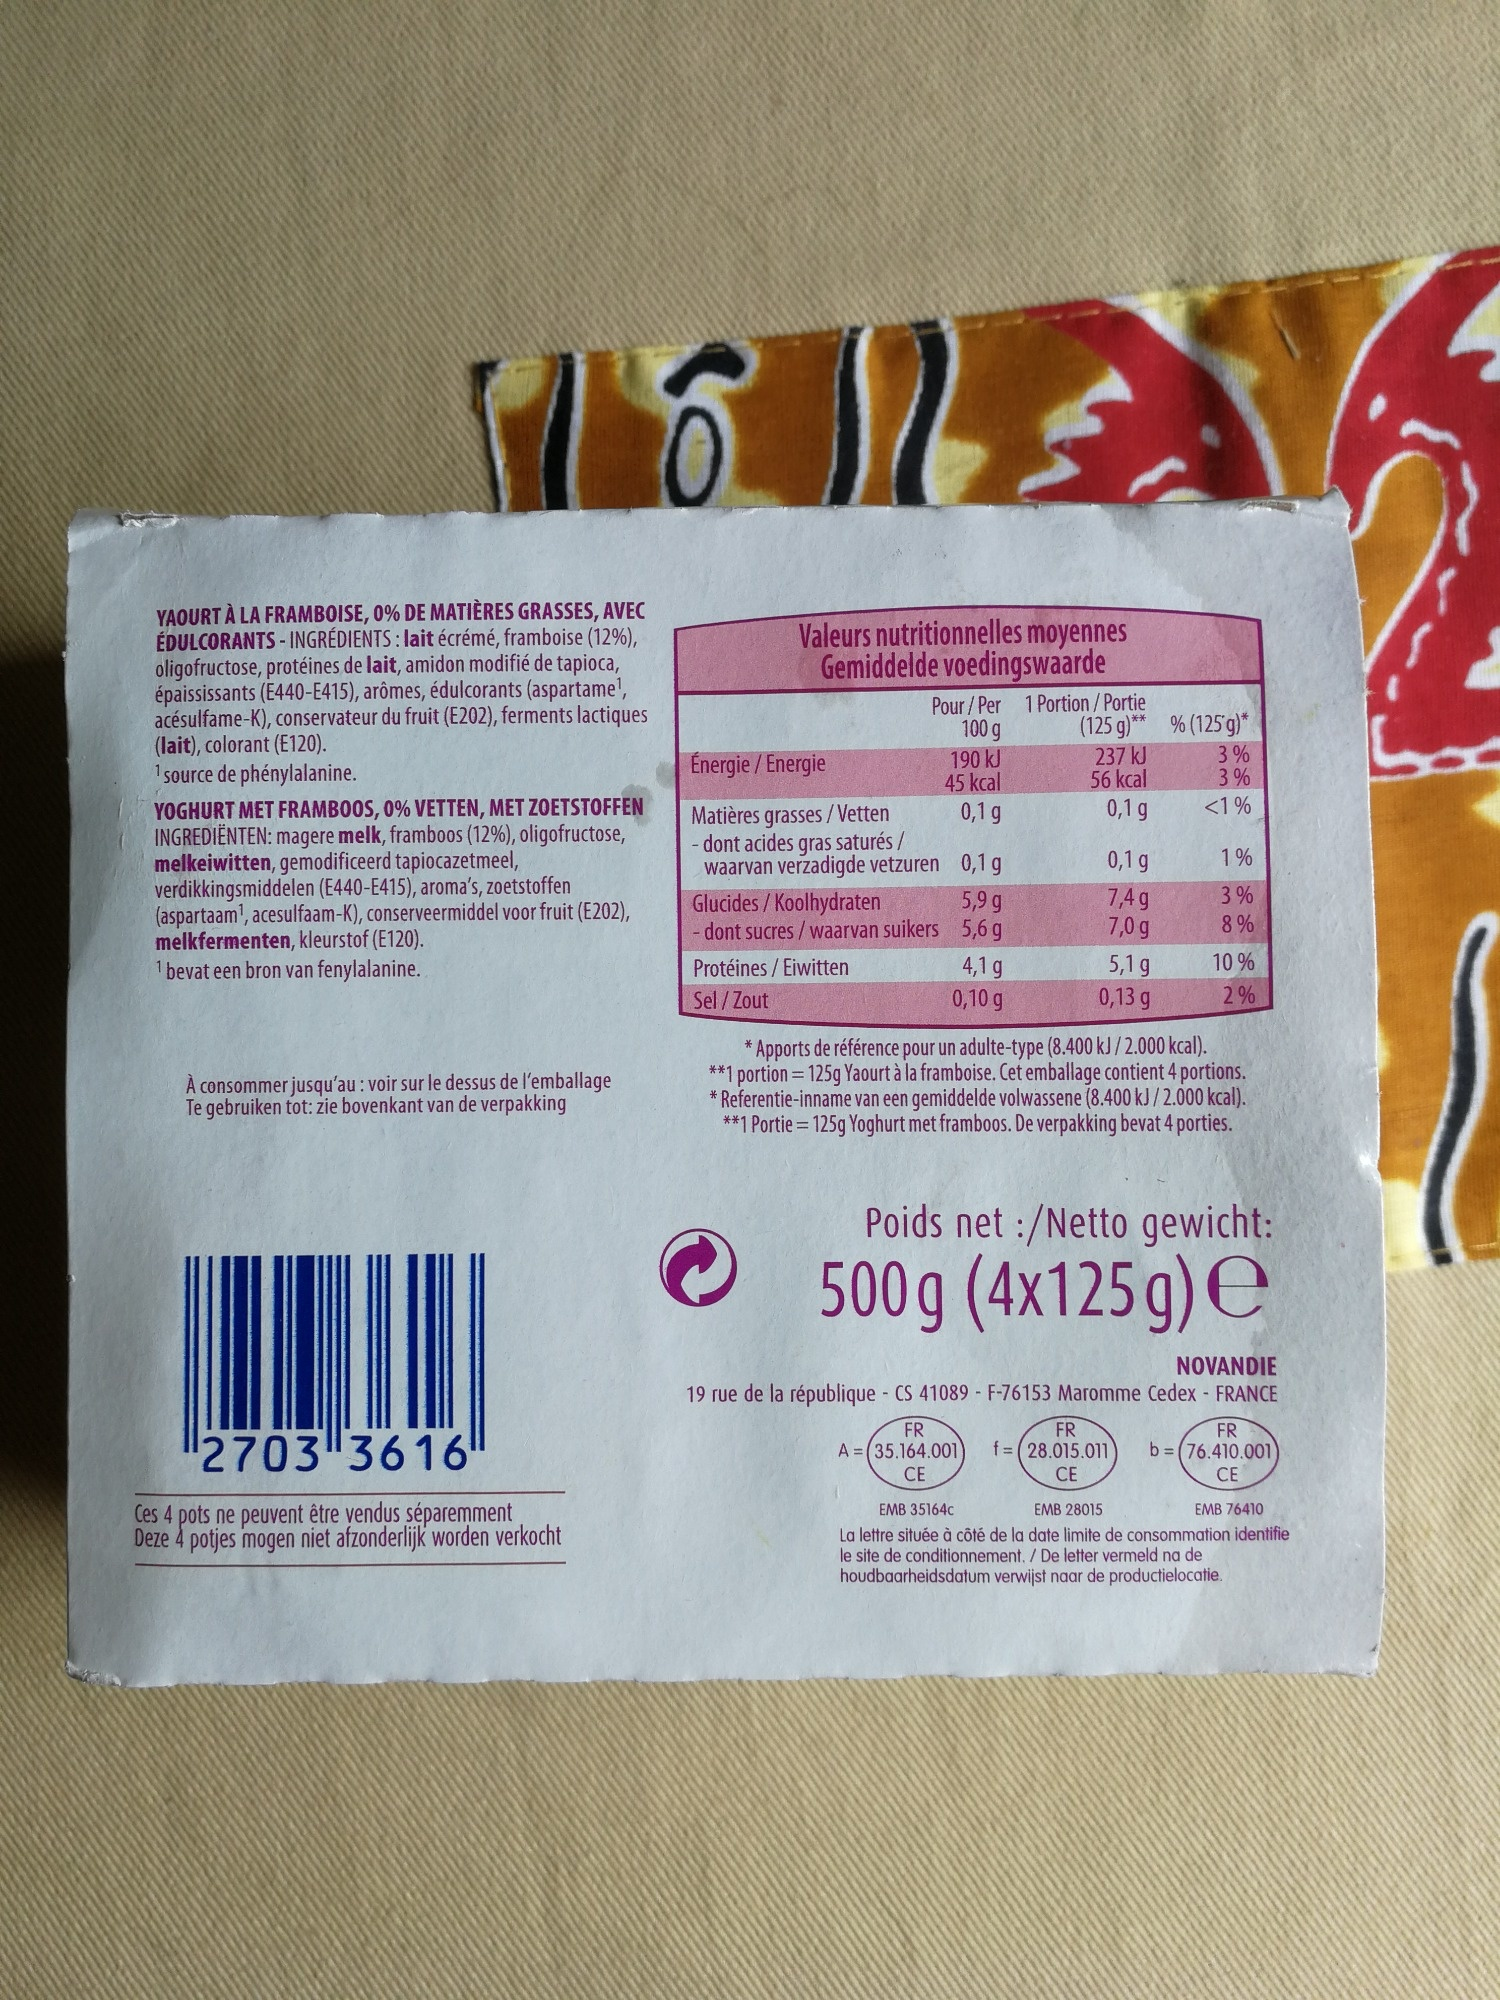column: (689, 743, 939, 1030), (1023, 683, 1155, 1027), (1164, 679, 1264, 1028), (942, 694, 1004, 1014)
table: (670, 602, 1278, 1028)
